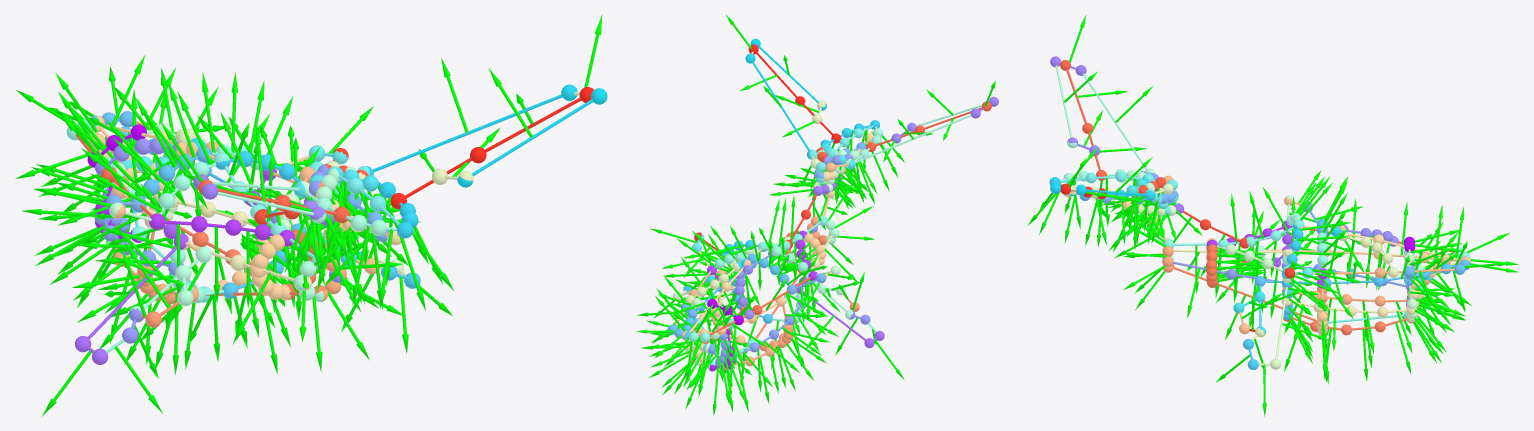
Rendered from ils_spacecraft_29.gltf.
3 renders of one model, left to right at view 1: azimuth 30°, elevation 25°; view 2: azimuth 150°, elevation 25°; view 3: azimuth 270°, elevation 25°, orthographic. The views are drawn at different scales.
Bounding box in the file's own units: 0.6142 × 0.5714 × 0.8906.
